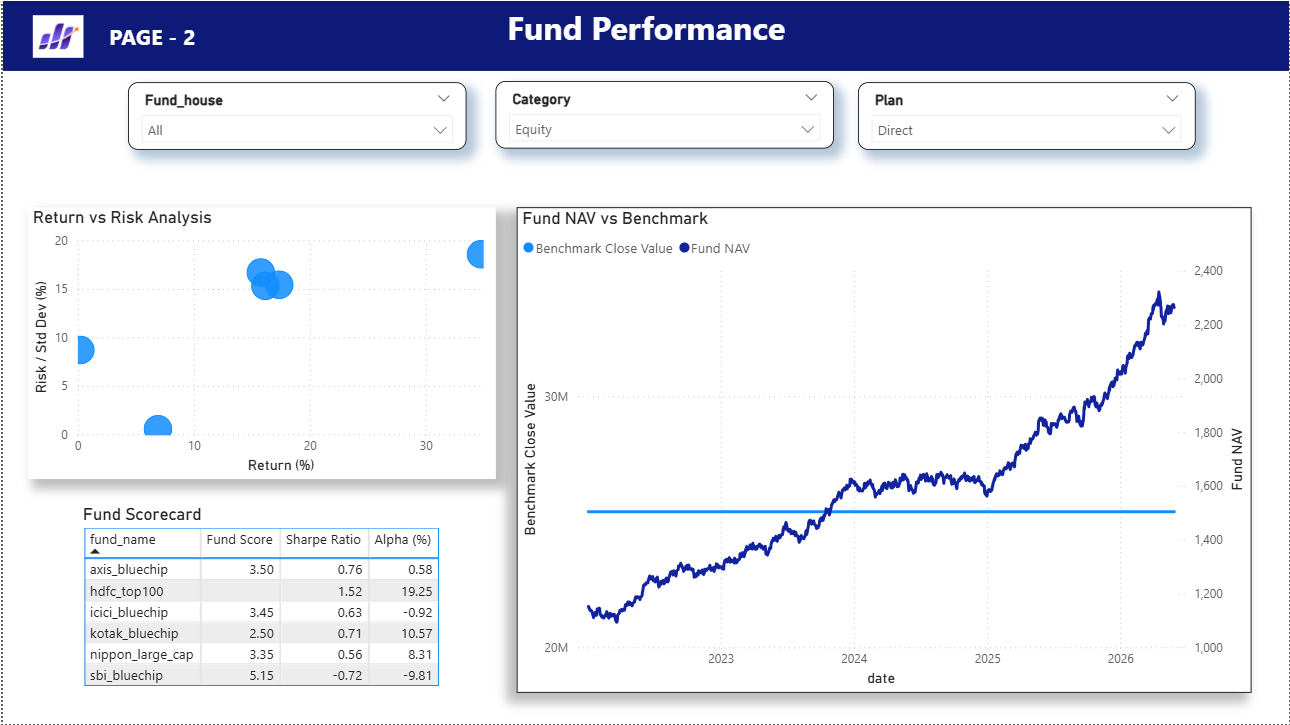

This screenshot's page, from the dashboard's own definition file:
{"tool":"powerbi","page":{"name":"Fund Performance","canvas":[1280,720],"ordinal":1},"visuals":[{"type":"textbox","box":[0,0,1280.3,70],"z":0},{"type":"scatterChart","title":"Return vs Risk Analysis","fields":{"Category":["sharpe_values.fund_name"],"X":["Sum(sharpe_values.annual_return_%)"],"Y":["Sum(sharpe_values.annual_volatility_%)"],"Size":["Sum(03_aum_by_fund_house.aum_crore)"]},"box":[24.3,205.7,465.7,270],"z":1000},{"type":"slicer","fields":{"Values":["01_fund_master.fund_house"]},"box":[124.3,81.4,337.1,67.1],"z":2000},{"type":"slicer","fields":{"Values":["01_fund_master.category"]},"box":[490,80,337.1,67.1],"z":3000},{"type":"slicer","fields":{"Values":["01_fund_master.plan"]},"box":[851.4,81.4,335.7,67.1],"z":4000},{"type":"tableEx","title":"Fund Scorecard","fields":{"Values":["fund_scorecard.fund_name","Sum(fund_scorecard.final_score)","Sum(sharpe_values.sharpe_ratio)","Sum(alpha_beta_report.alpha_%)"]},"box":[74.3,500,364.3,188.6],"z":5000},{"type":"lineChart","title":"Fund NAV vs Benchmark","fields":{"Category":["clean_nav.date"],"Y":["Sum(10_benchmark_indices.close_value)"],"Y2":["Sum(clean_nav.nav)"]},"box":[511.4,205.7,731.4,482.9],"z":6000},{"type":"textbox","box":[100.2,16.5,98.8,39.8],"z":6001},{"type":"image","box":[24.7,4.1,60.4,63.1],"z":6002}]}

Visuals, with their boxes in screenshot pixels (x1, y1, x2, y2), scaled from the page's 1280x720 canvas onto the 1290x725 screenshot:
textbox: left=0, top=0, right=1289, bottom=70
"Return vs Risk Analysis" scatterChart: left=24, top=207, right=494, bottom=479
slicer - 01_fund_master.fund_house: left=125, top=82, right=465, bottom=150
slicer - 01_fund_master.category: left=494, top=81, right=834, bottom=148
slicer - 01_fund_master.plan: left=858, top=82, right=1196, bottom=150
"Fund Scorecard" tableEx: left=75, top=503, right=442, bottom=693
"Fund NAV vs Benchmark" lineChart: left=515, top=207, right=1253, bottom=693
textbox: left=101, top=17, right=201, bottom=57
image: left=25, top=4, right=86, bottom=68
